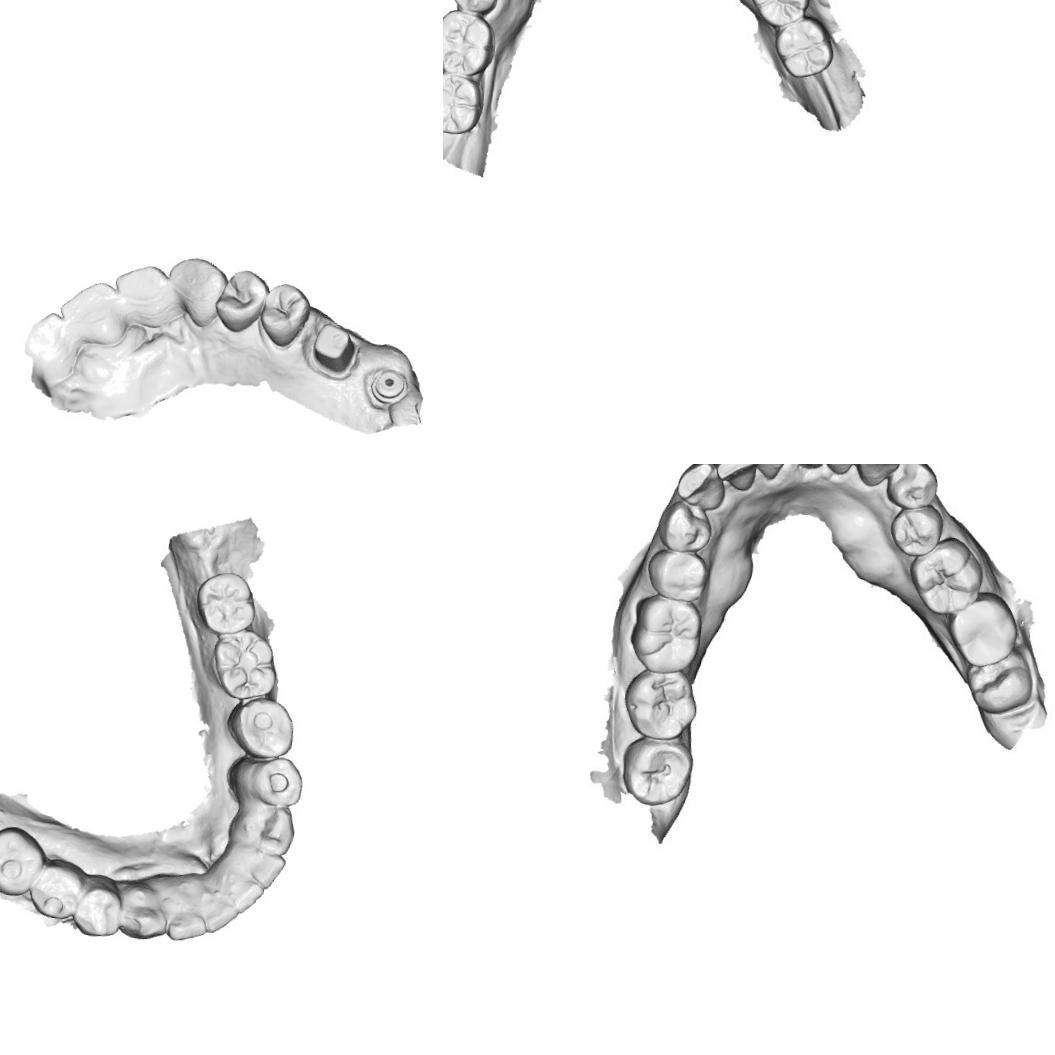abutment: (306, 320, 360, 378)
canine: (162, 254, 230, 330), (236, 802, 294, 858), (117, 881, 170, 940), (671, 464, 729, 509), (852, 464, 898, 489)
implant: (367, 364, 408, 404)
incisor: (55, 278, 128, 348), (109, 260, 172, 330), (20, 308, 82, 378), (240, 846, 288, 892), (199, 889, 242, 936), (164, 900, 207, 944), (224, 873, 266, 914), (721, 464, 762, 493), (754, 464, 791, 476)
molar: (630, 592, 706, 672), (190, 568, 263, 641), (623, 668, 697, 738), (208, 629, 276, 701), (963, 649, 1033, 718), (622, 736, 692, 804), (913, 543, 981, 613), (770, 14, 838, 82), (949, 598, 1016, 660), (443, 7, 497, 77), (0, 821, 44, 897), (443, 68, 484, 136), (743, 0, 814, 32)
premolar: (229, 695, 297, 759), (237, 752, 309, 812), (210, 265, 270, 336), (28, 856, 88, 927), (256, 280, 312, 349), (654, 500, 712, 554), (73, 880, 124, 937), (650, 553, 704, 602), (892, 508, 939, 554), (892, 464, 940, 507), (447, 0, 504, 16)
